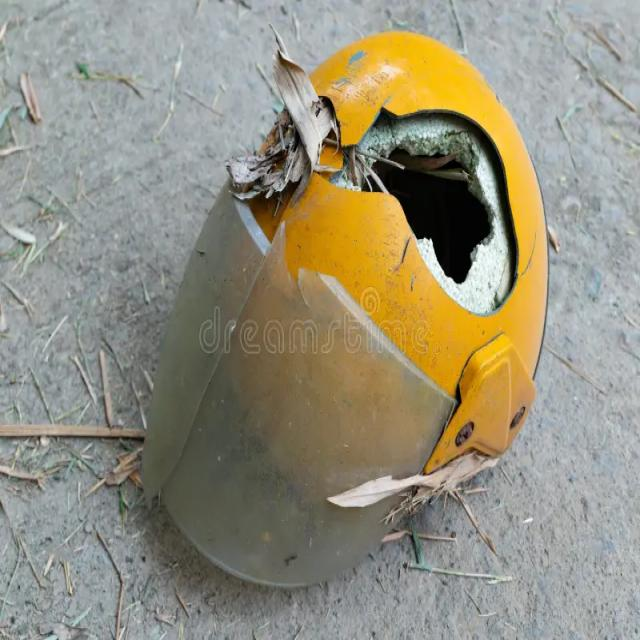BrokenHelmet: (318, 106, 521, 317)
